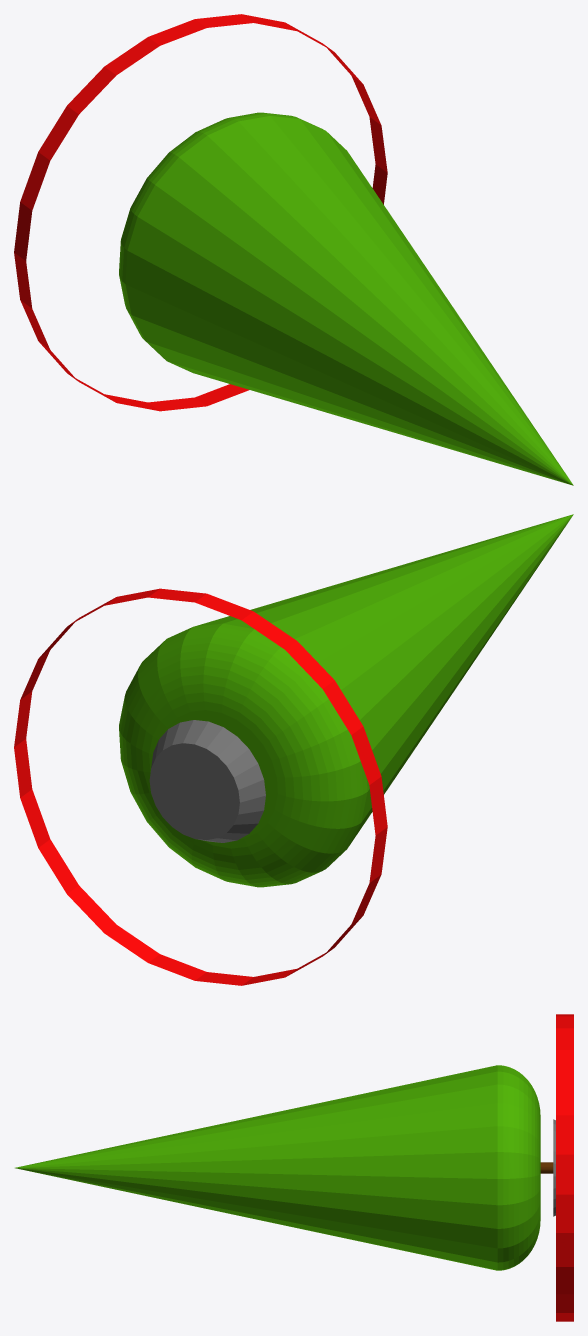
File: HPK21m.obj
3 renders of one model, top to bottom at view 1: azimuth 30°, elevation 25°; view 2: azimuth 150°, elevation 25°; view 3: azimuth 270°, elevation 25°, orthographic. The views are drawn at different scales.
Bounding box in the file's own units: 12 × 12 × 21.8.
